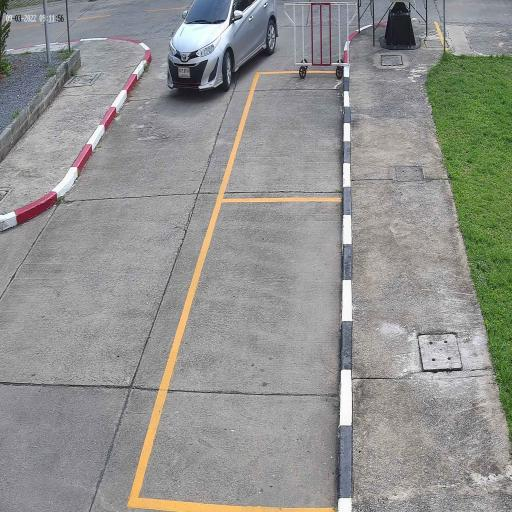car: (165, 0, 281, 91)
